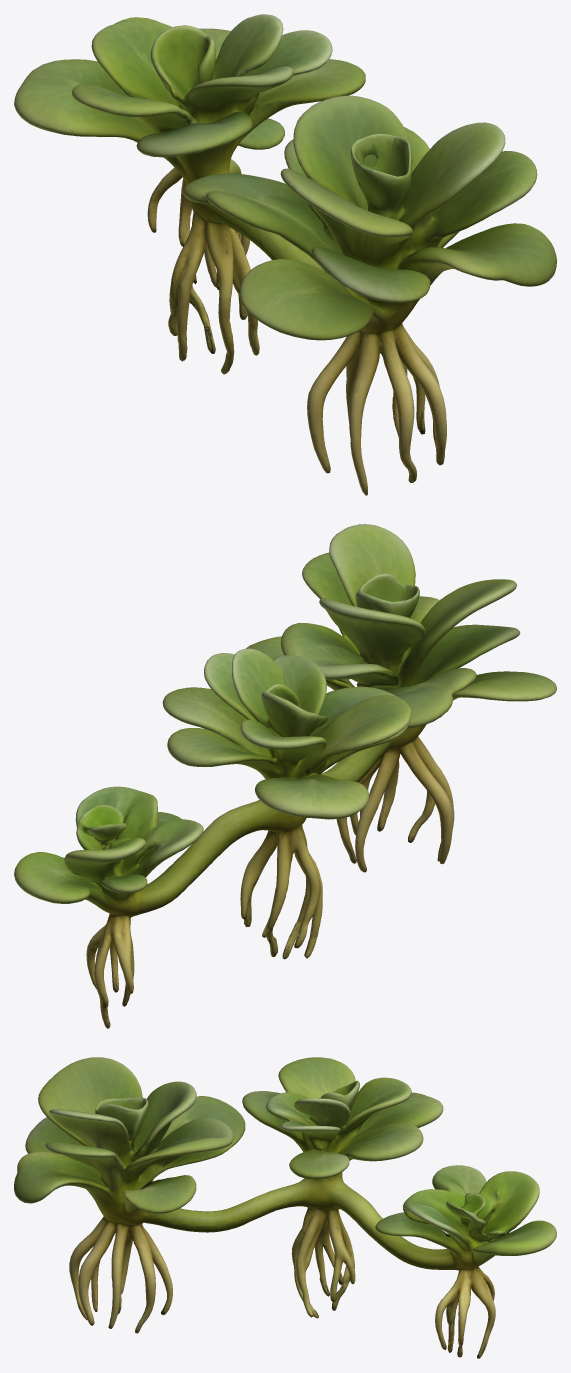
3 renders of one model, top to bottom at view 1: azimuth 30°, elevation 25°; view 2: azimuth 150°, elevation 25°; view 3: azimuth 270°, elevation 25°, orthographic. The views are drawn at different scales.
Parts seen in each view (by area): view 1: world; view 2: world; view 3: world.
Part boxes in pixels (left/top/right/bottom): world: left=14, top=14, right=556, bottom=495; world: left=14, top=524, right=556, bottom=1028; world: left=14, top=1057, right=556, bottom=1358.
Bounding box in the file's own units: 0.0745 × 0.0837 × 0.1647.
Materials: 1 (1 with a texture image).
